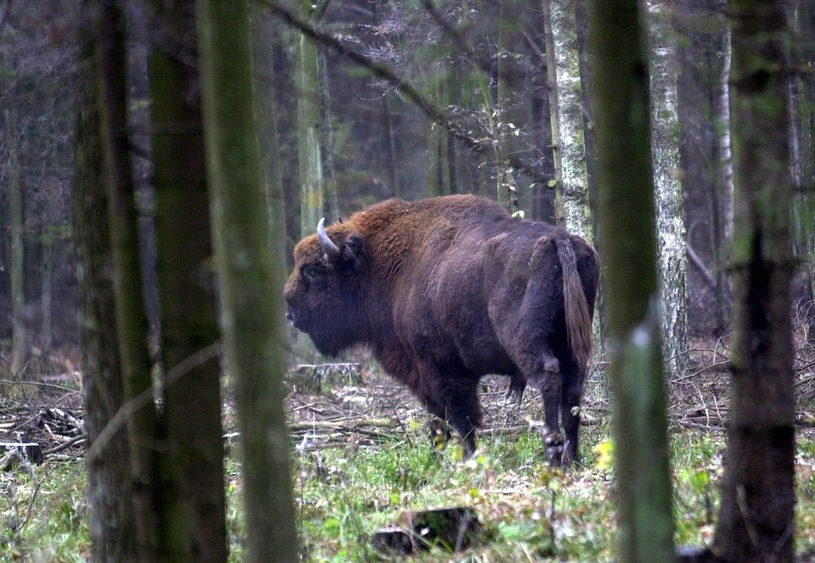zubr: (261, 148, 619, 459)
